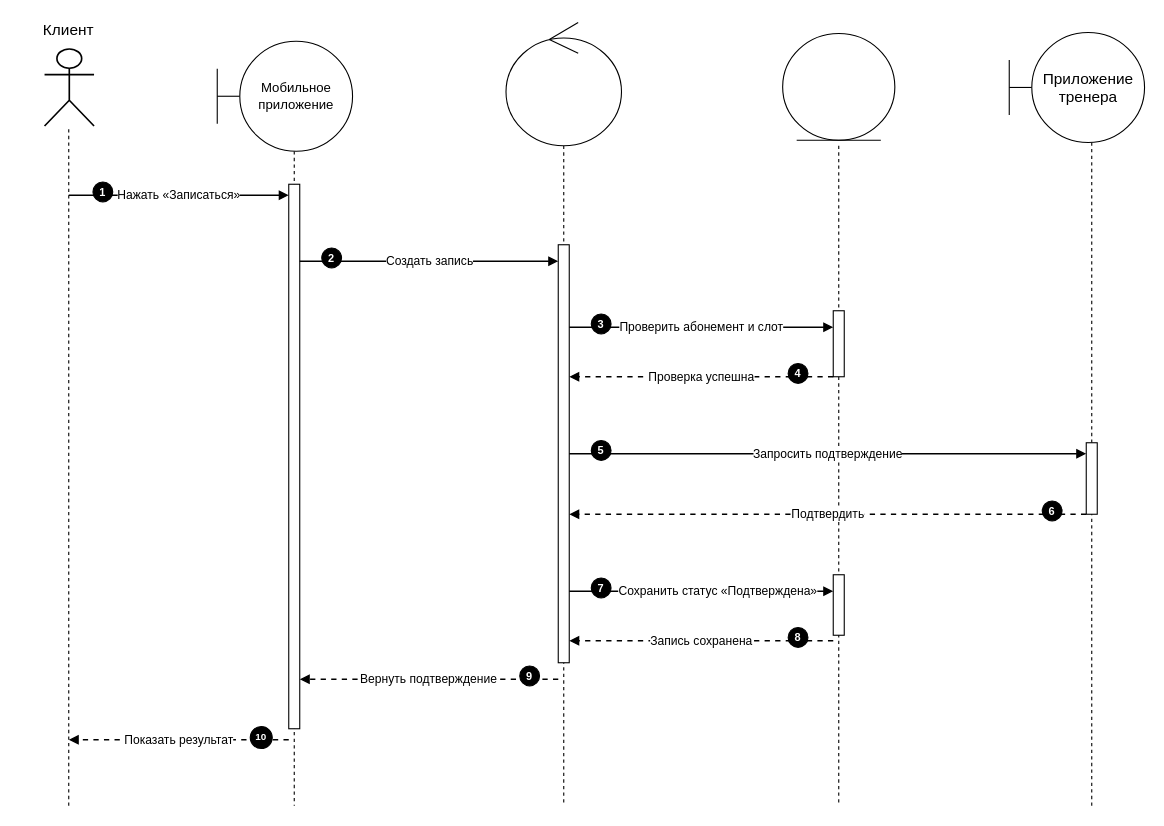
The diagram is 1164 pixels wide and 826 high, and some of its shapes have lost their labels. The shapes that lost their labels are listed below. From the top down, each one's centre as x and y in pixels, then its label:
At [563,83]: "Менеджер записей".
At [838,86]: "База данных".
